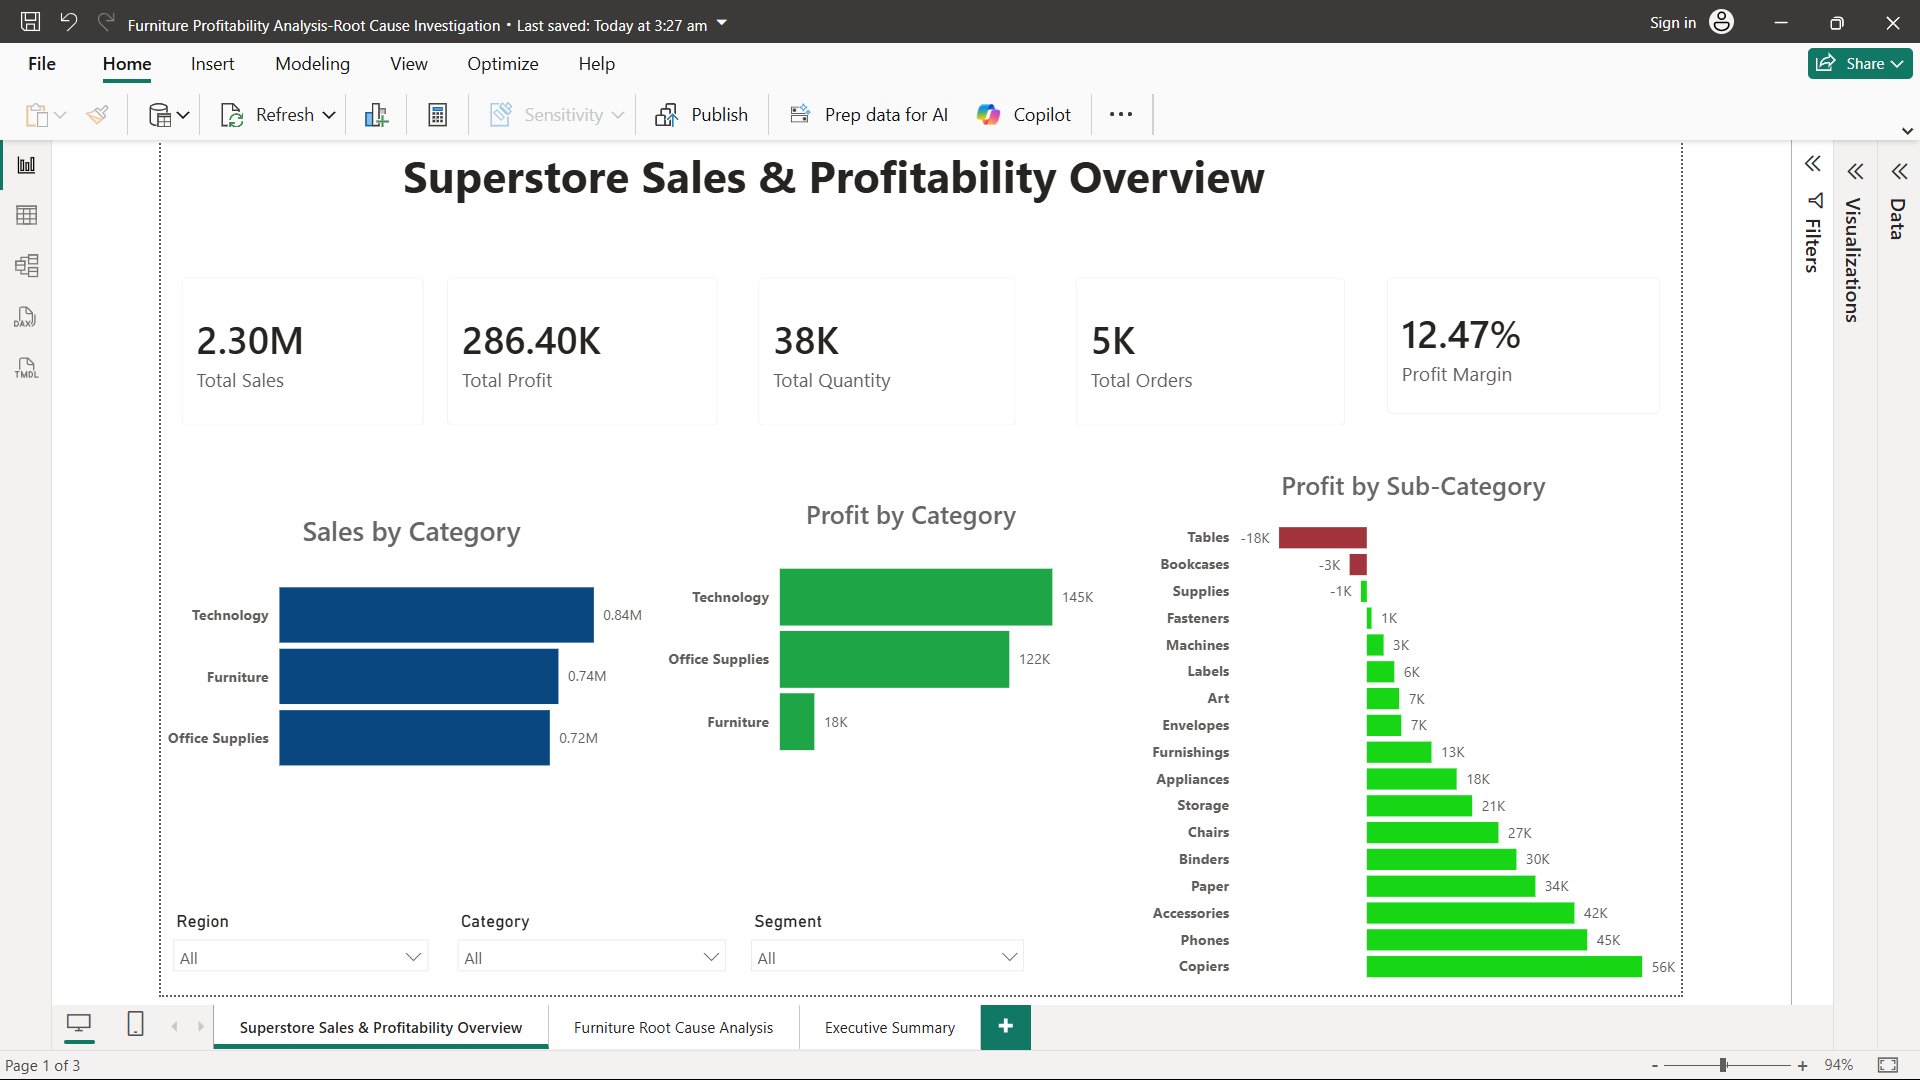

Layout of this report page (visuals, bound fields, positions):
{"tool":"powerbi","page":{"name":"Superstore Sales & Profitability Overview","canvas":[1280,720],"ordinal":0},"visuals":[{"type":"cardVisual","fields":{"Data":["Sample - Superstore.Total Sales"]},"box":[0,98.6,238.8,159.2],"z":0},{"type":"cardVisual","fields":{"Data":["Sample - Superstore.Total Profit"]},"box":[223.3,98.6,262.5,159.2],"z":1000},{"type":"cardVisual","fields":{"Data":["Sample - Superstore.Total Quantity"]},"box":[485.9,98.6,251.8,159.2],"z":2000},{"type":"cardVisual","fields":{"Data":["Sample - Superstore.Total Orders"]},"box":[753.2,98.6,261.4,159.2],"z":3000},{"type":"cardVisual","fields":{"Data":["Sample - Superstore.Profit Margin"]},"box":[1014.5,98.6,264.9,149.7],"z":4000},{"type":"clusteredBarChart","title":"Sales by Category","fields":{"Category":["Sample - Superstore.Category"],"Y":["Sum(Sample - Superstore.Sales)"]},"box":[0,300.6,421.7,240],"z":4001},{"type":"clusteredBarChart","title":"Profit by Category","fields":{"Y":["Sum(Sample - Superstore.Profit)"],"Category":["Sample - Superstore.Category"]},"box":[421.7,300.6,420.5,240],"z":4002},{"type":"textbox","box":[147.3,0,838.7,98.6],"z":4003},{"type":"clusteredBarChart","title":"Profit by Sub-Category","fields":{"Category":["Sample - Superstore.Sub-Category"],"Y":["Sum(Sample - Superstore.Profit)"]},"box":[827.1,276.1,451.7,443.6],"z":4004},{"type":"slicer","fields":{"Values":["Sample - Superstore.Region"]},"box":[0,644.6,235,76],"z":4005},{"type":"slicer","fields":{"Values":["Sample - Superstore.Segment"]},"box":[487,644.6,250.5,76],"z":4006},{"type":"slicer","fields":{"Values":["Sample - Superstore.Category"]},"box":[239.3,644.6,246.3,71.8],"z":4007}]}

Visuals, with their boxes on the page's 1280x720 design canvas (x1, y1, x2, y2). These are canvas units, not pixel positions in the 1920x1080 screenshot, which may show the page scaled, cropped or inside an application window:
cardVisual - Sample - Superstore.Total Sales: 0/99/239/258
cardVisual - Sample - Superstore.Total Profit: 223/99/486/258
cardVisual - Sample - Superstore.Total Quantity: 486/99/738/258
cardVisual - Sample - Superstore.Total Orders: 753/99/1015/258
cardVisual - Sample - Superstore.Profit Margin: 1014/99/1279/248
"Sales by Category" clusteredBarChart: 0/301/422/541
"Profit by Category" clusteredBarChart: 422/301/842/541
textbox: 147/0/986/99
"Profit by Sub-Category" clusteredBarChart: 827/276/1279/720
slicer - Sample - Superstore.Region: 0/645/235/721
slicer - Sample - Superstore.Segment: 487/645/738/721
slicer - Sample - Superstore.Category: 239/645/486/716
